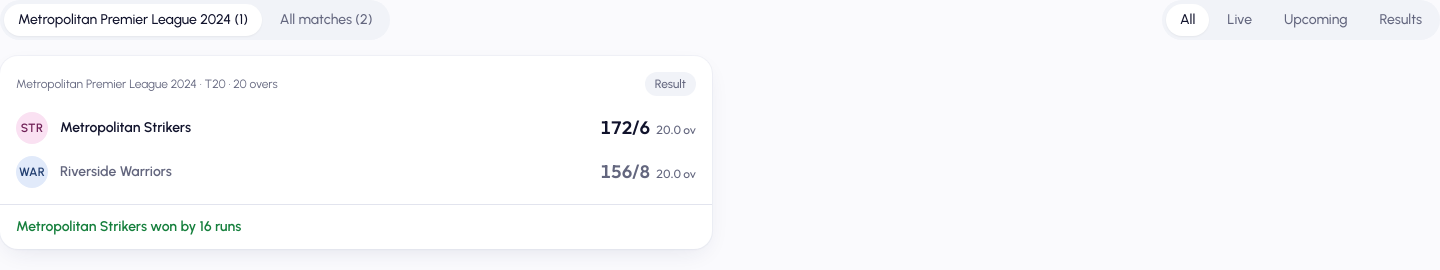
Scenario: TeamMatchesView › filters to tournament matches by default when tournamentInfo is provided
expect the text "Riverside Warriors" is shown: met, box left=60, top=163, right=172, bottom=180
expect the text "City Titans" is not shown: met
Click the button "All matches (2)" at (326, 20), box left=266, top=4, right=386, bottom=36
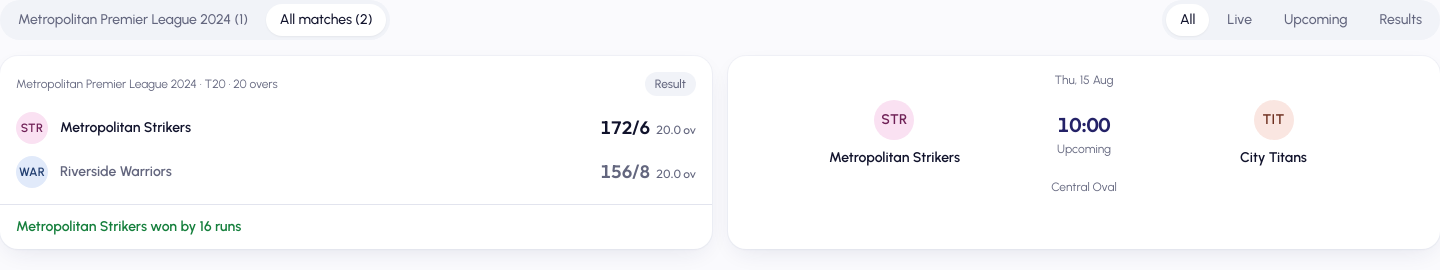
expect the text "City Titans" is shown: met, box left=1240, top=148, right=1307, bottom=167
